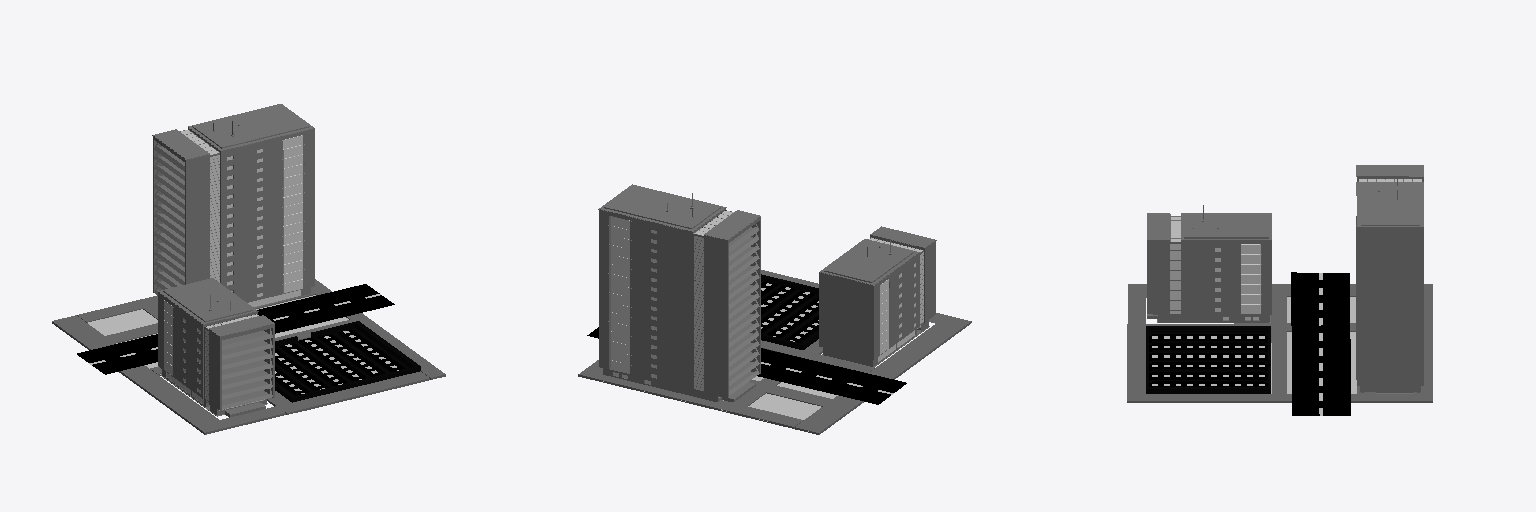
Rendered from map6.obj.
The picture shows the model from 3 angles: view 1: azimuth 30°, elevation 25°; view 2: azimuth 150°, elevation 25°; view 3: azimuth 270°, elevation 25°; orthographic projection.
Visible parts, largest first — view 1: Map; view 2: Map; view 3: Map.
Part boxes in pixels (bbox=[...]): Map: bbox=[52, 104, 445, 434]; Map: bbox=[578, 184, 971, 434]; Map: bbox=[1127, 165, 1432, 415].
Bounding box in the file's own units: 122 × 74.15 × 111.